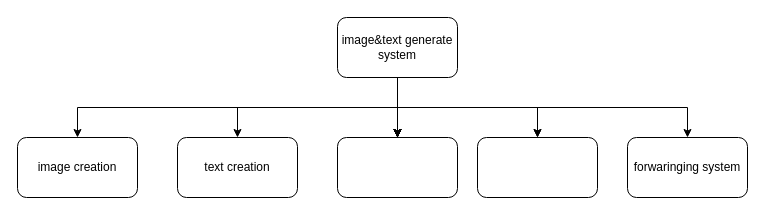
Image size: 765x215. Some labels were removed from this diagram. The box of each missing label's shape, as (x1, y1, x2, y2) in pixels:
edit system: (336, 136, 458, 198)
template system: (476, 136, 598, 198)
